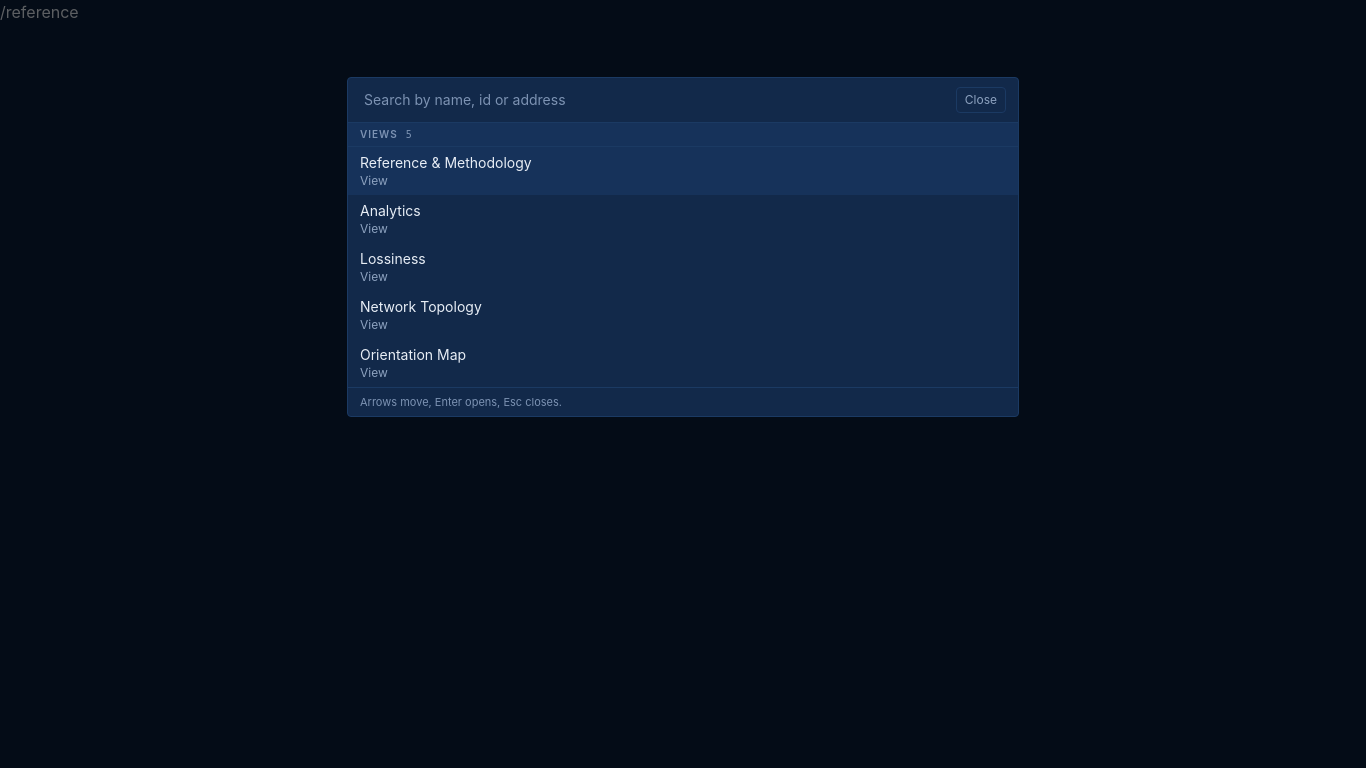
Test case: command palette › says which site a device is at when two sites share a name
The image size is (1366, 768).
Type "northwind" into the dropdown.
click(654, 100); type("northwind")  # box [360,86,948,114]
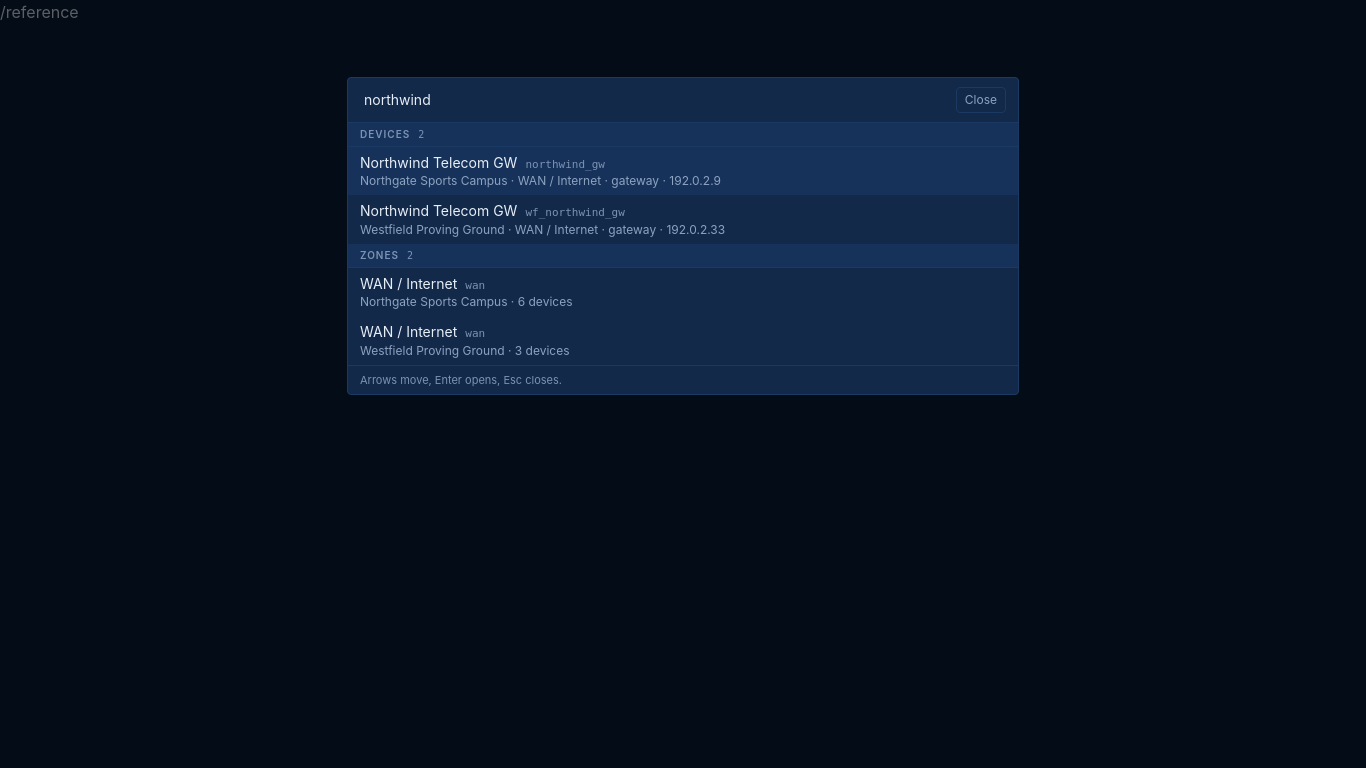
Now the 1st option shows "Northgate Sports Campus", box [348,147,1018,195]
Now the 2nd option shows "Westfield Proving Ground", box [360,202,725,237]
